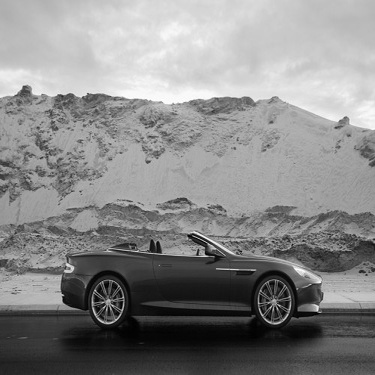car: (38, 217, 330, 329)
